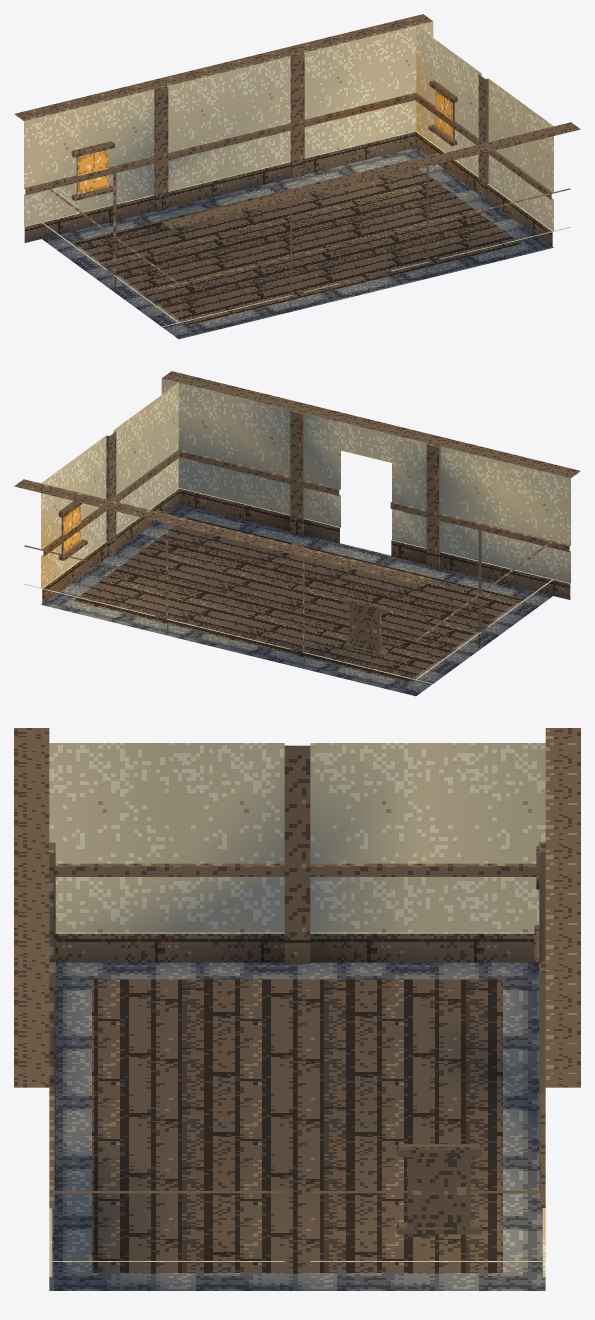
The model's file is vlg.room__taproom.glb.
The picture shows the model from 3 angles, top to bottom: view 1: azimuth 30°, elevation 25°; view 2: azimuth 150°, elevation 25°; view 3: azimuth 270°, elevation 25°; orthographic projection. The views are drawn at different scales.
Parts seen in each view (by area): view 1: kit_shell_walls, kit_shell_floor, kit_fittings; view 2: kit_shell_walls, kit_shell_floor, kit_fittings; view 3: kit_shell_floor, kit_shell_walls, kit_fittings.
Part boxes in pixels (box(x1,y1,x2,y2)): kit_shell_walls: box(14, 14, 580, 327); kit_shell_floor: box(42, 148, 553, 339); kit_fittings: box(71, 80, 457, 200); kit_shell_walls: box(14, 371, 580, 684); kit_shell_floor: box(41, 505, 552, 696); kit_fittings: box(58, 501, 388, 657); kit_shell_floor: box(49, 962, 545, 1290); kit_shell_walls: box(14, 728, 580, 1276); kit_fittings: box(396, 845, 539, 1234).
Size of the model in its own units: 12 by 3.4 by 8.
6 materials, 6 textured.
